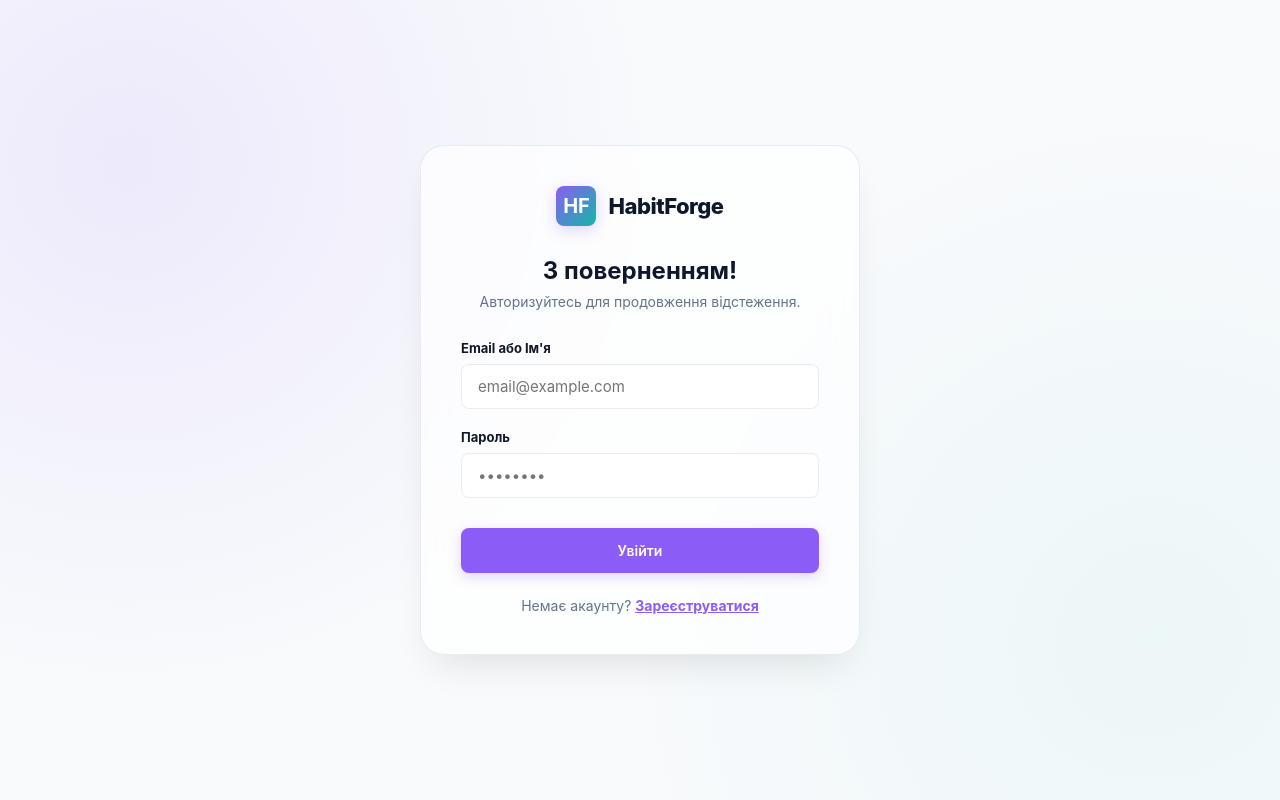
AuthScreen › shows error message when login fails
Type "bad@example.com" into the field with placeholder "email@example.com".
click(640, 386); type("bad@example.com")  # box [461, 364, 819, 409]
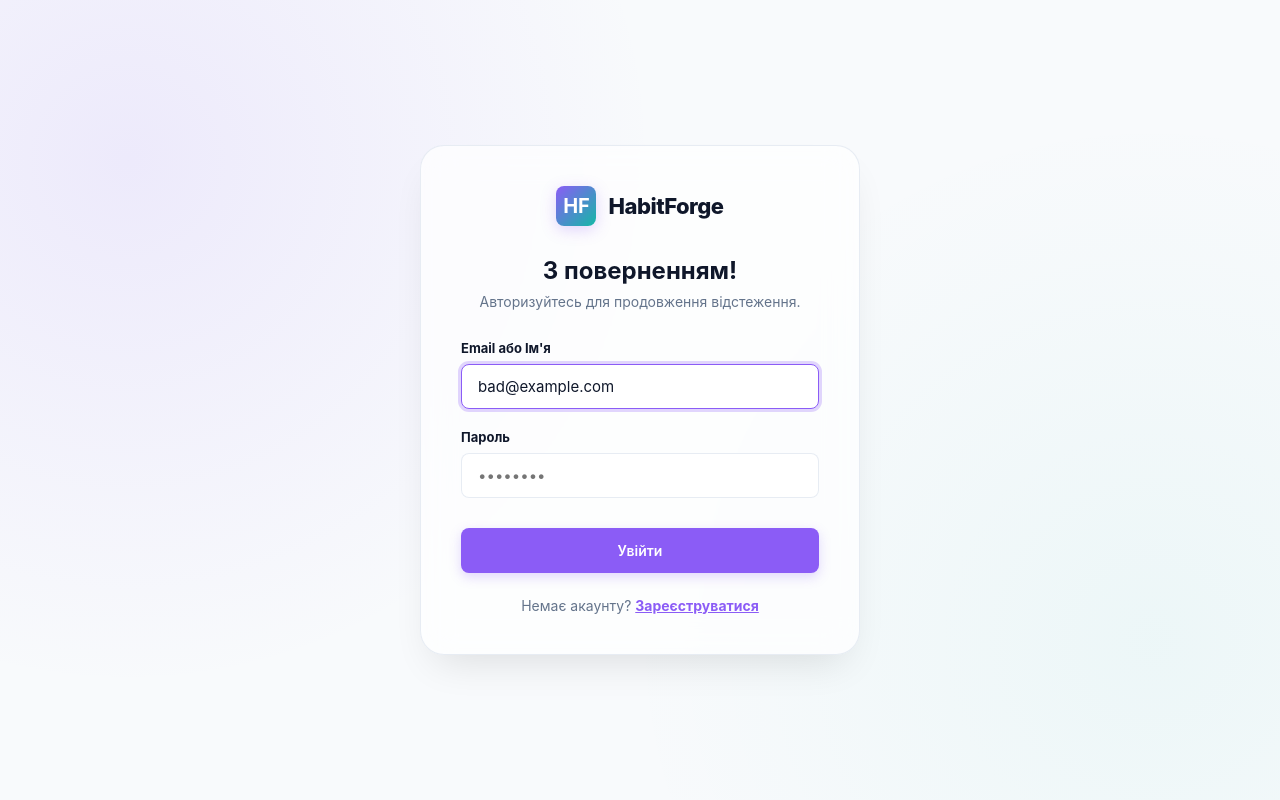
Type "wrongpass" into the password field with placeholder "••••••••".
click(640, 476); type("wrongpass")  # box [461, 453, 819, 498]
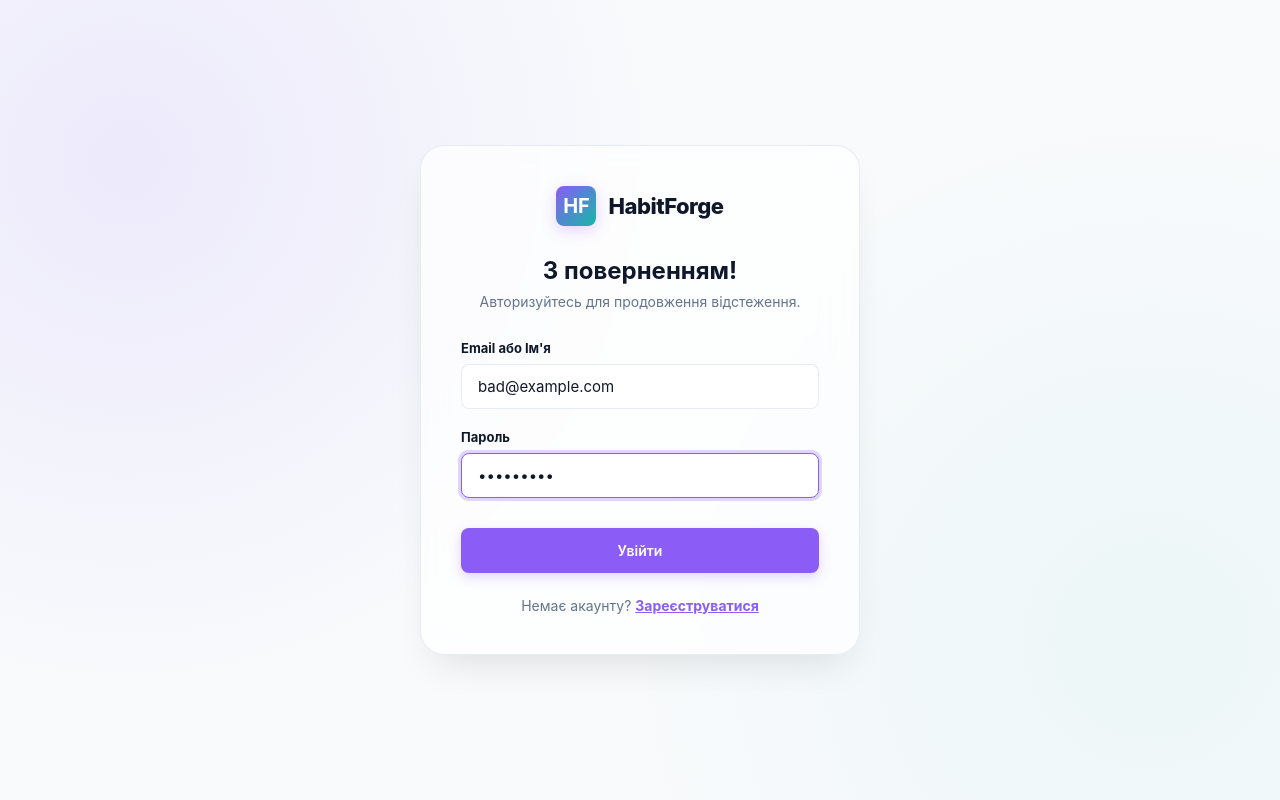
Click the button "Увійти".
click(640, 550)  # box [461, 528, 819, 573]
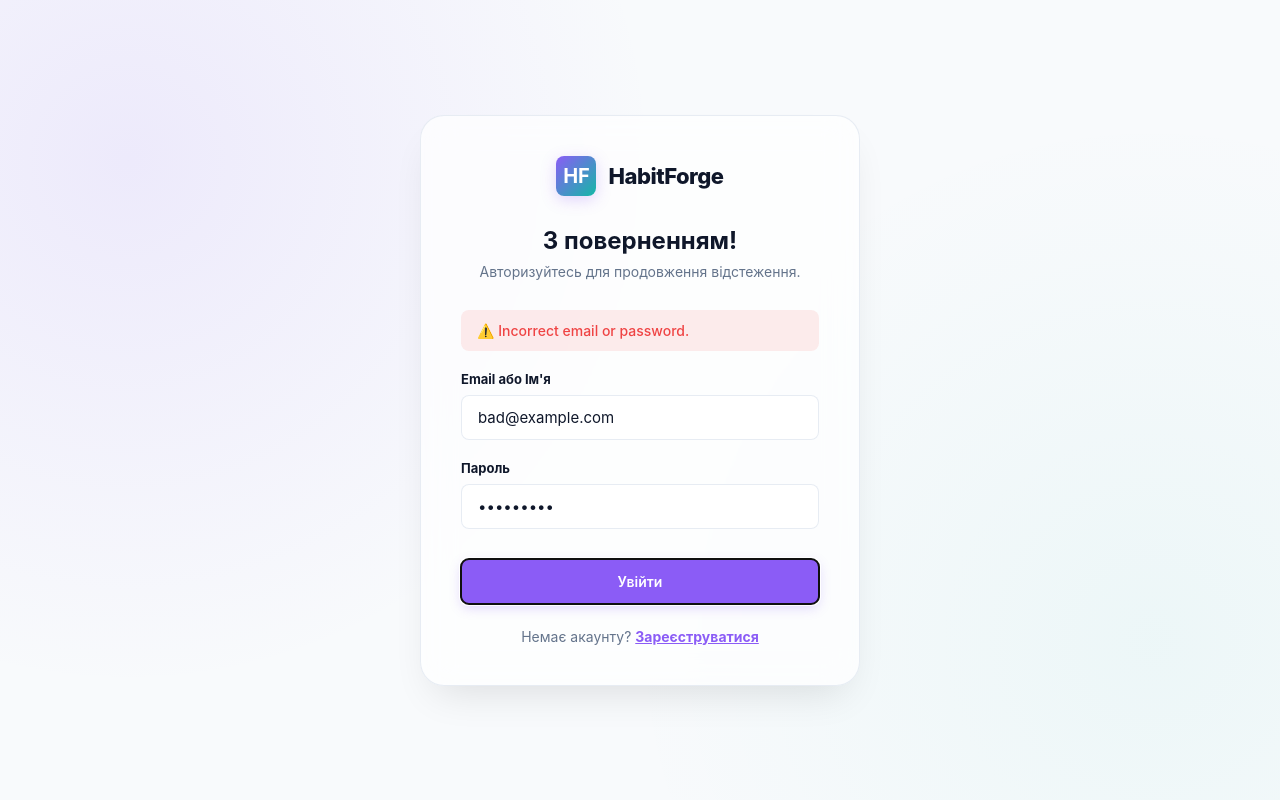
expect the text "⚠️ Incorrect email or password." is shown: met, box [461, 310, 819, 350]
